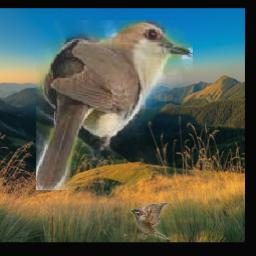Cuckoo: (36, 20, 193, 190)
Sparrow: (130, 203, 171, 240)
